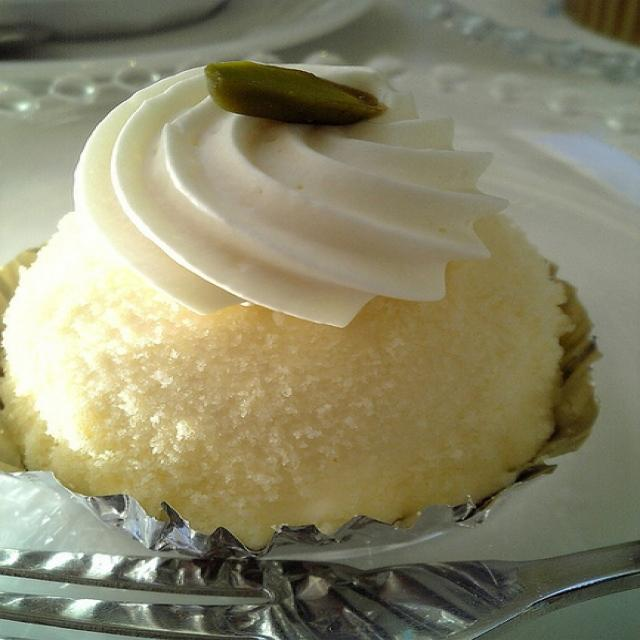Rare cheese cake: (10, 75, 618, 562)
